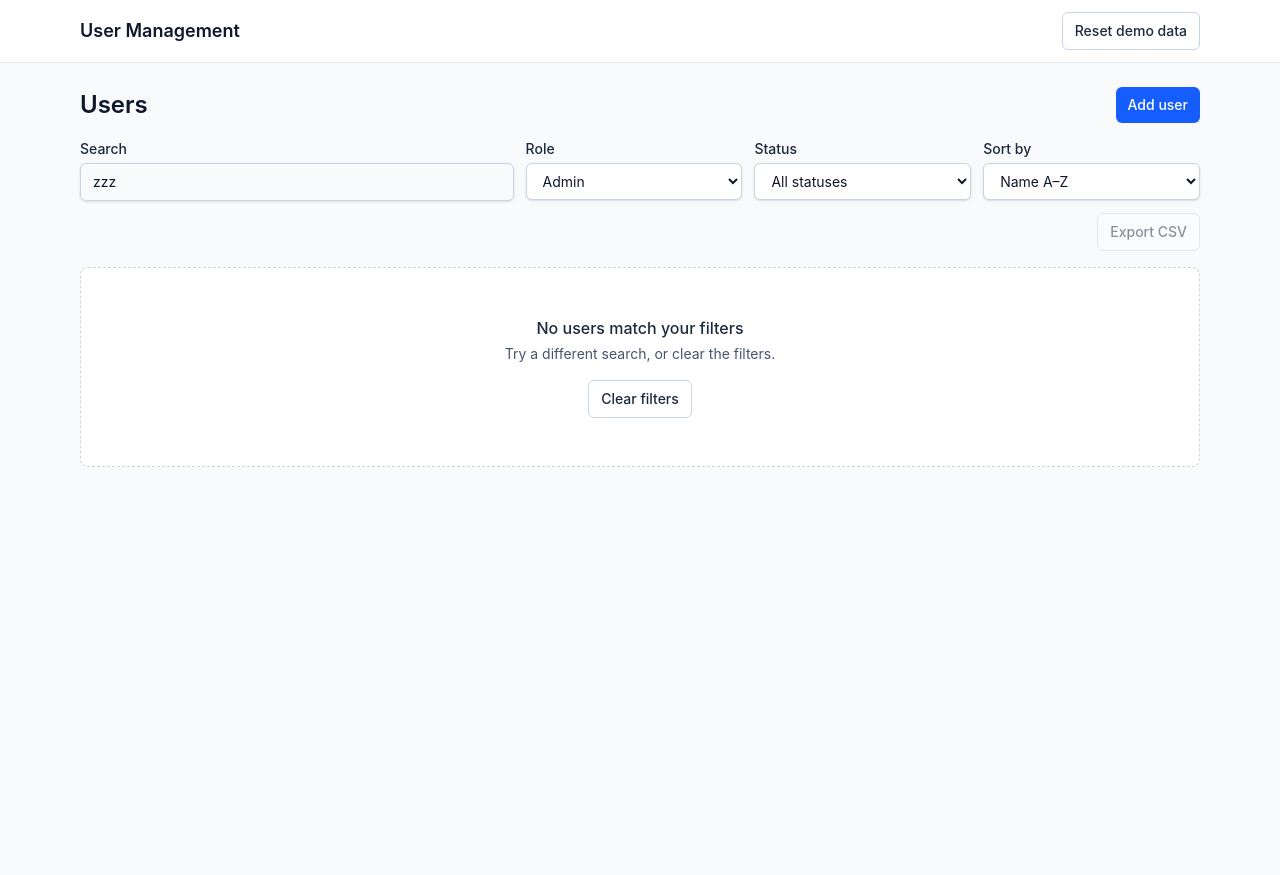
Test: UsersListPage states › shows an empty state with a Clear filters button when nothing matches
The width and height of the screenshot is (1280, 875).
expect the text "No users match your filters" is shown: met, box [536,318,744,338]
Click the button "Clear filters": (640, 399) [588,380,692,418]
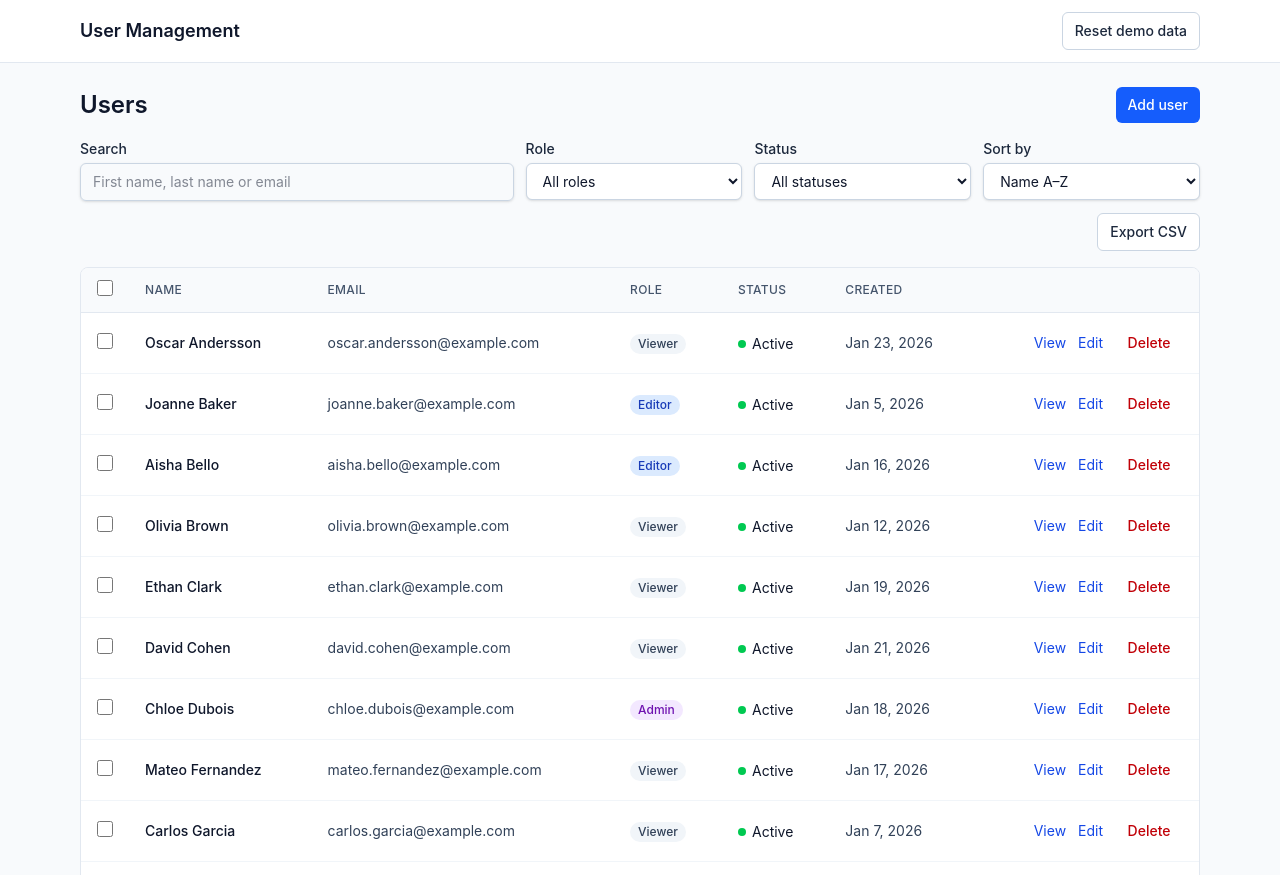
expect the search field labelled "Search" is empty: met, box [80,163,514,201]
expect the dropdown labelled "Role" shows "All roles": met, box [526,163,742,200]
